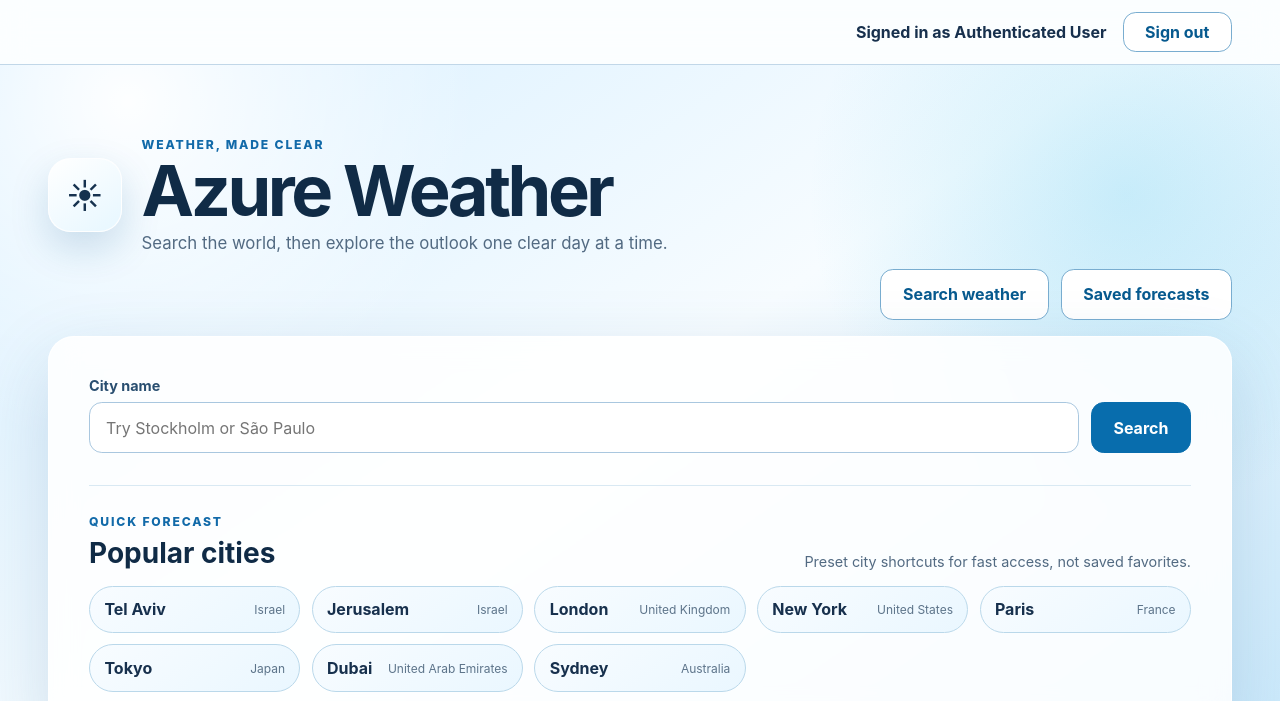
Test: App › displays a stored snapshot without requesting live weather and returns to search
Expected: the text "Signed in as Authenticated User" is shown, [856,22,1106,42]
Click the button "Saved forecasts": point(1146, 294) [1061,269,1232,320]
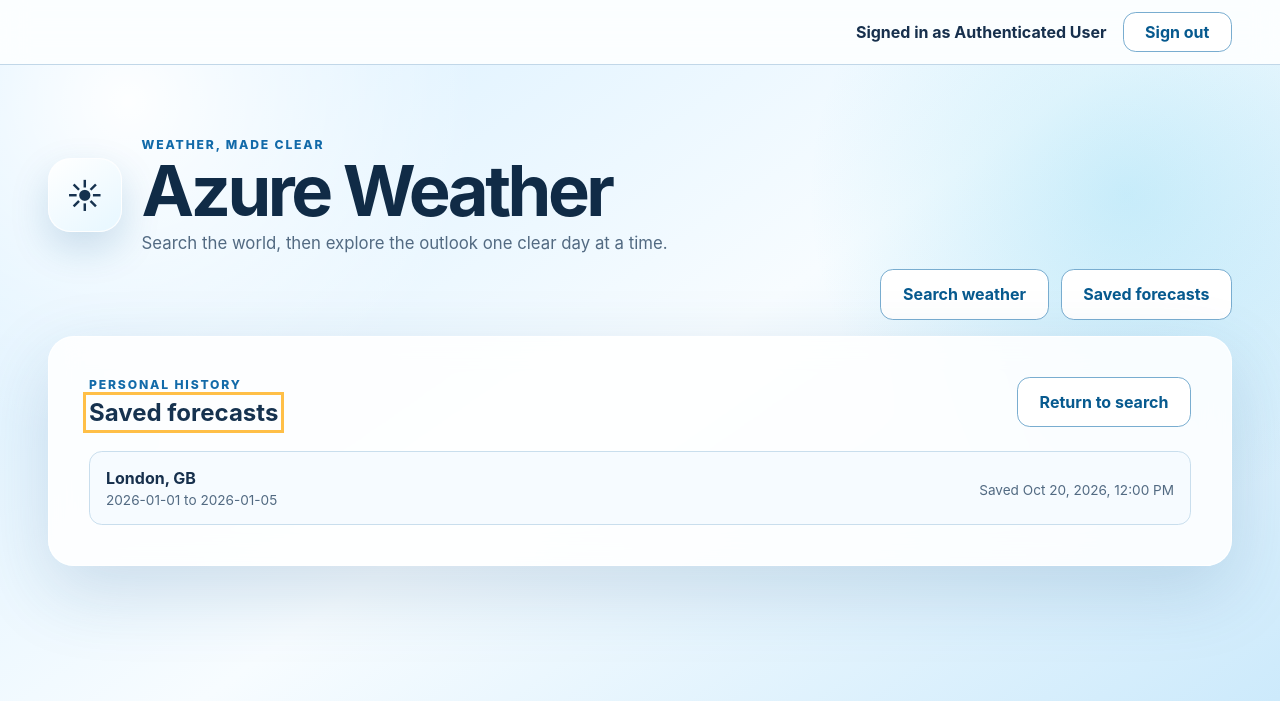
Click the button "London, GB": point(135, 478) [89,451,1191,525]
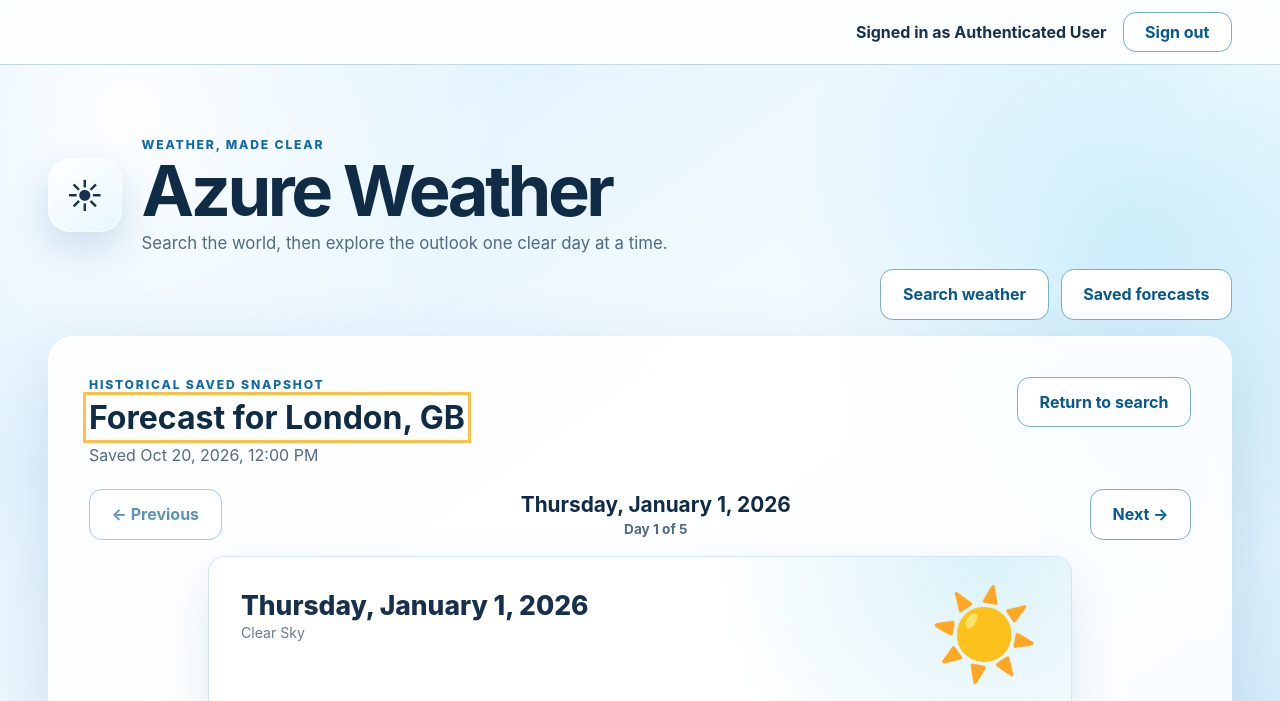
Expected: the text "Historical saved snapshot" is shown, [89,377,325,392]
Expected: the text "Day 1 of 5" is shown, [624,521,688,537]
Click the button with aria-label "Next forecast day": point(1140, 514) [1090,489,1191,540]
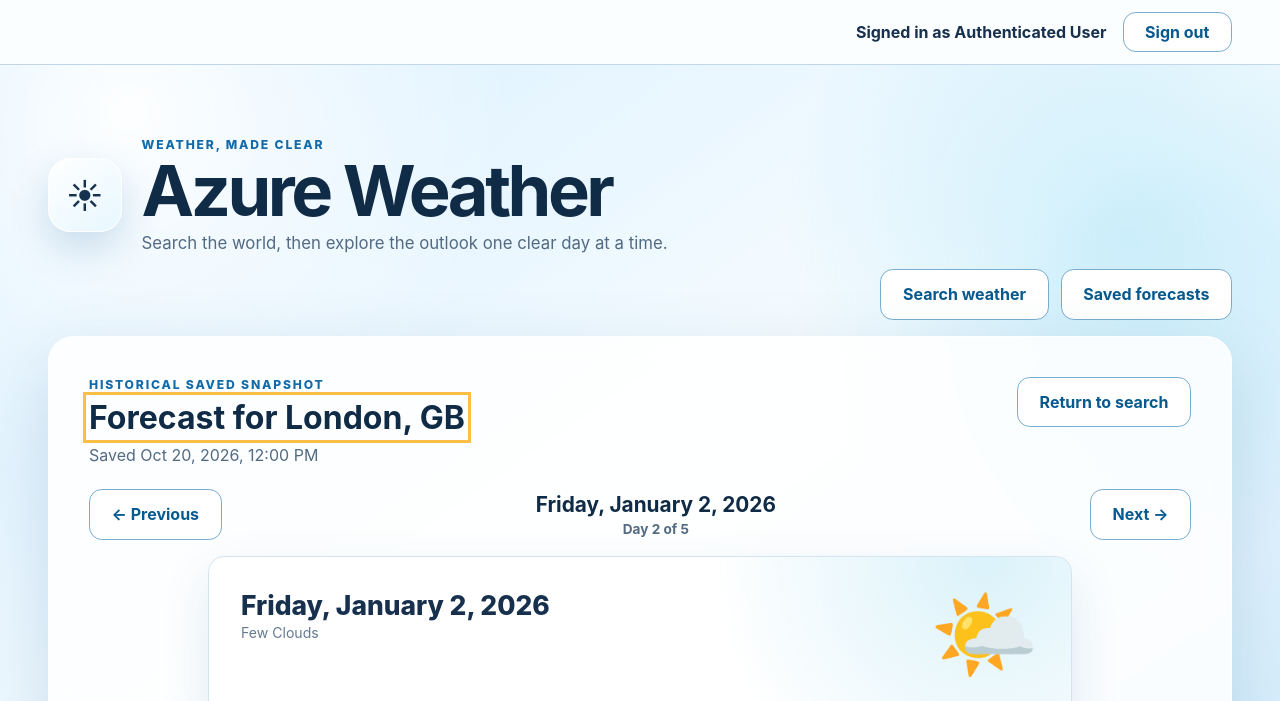
Expected: the text "Day 2 of 5" is shown, [623,521,689,537]
Click the button "Return to search": point(1104, 402) [1017,377,1191,427]
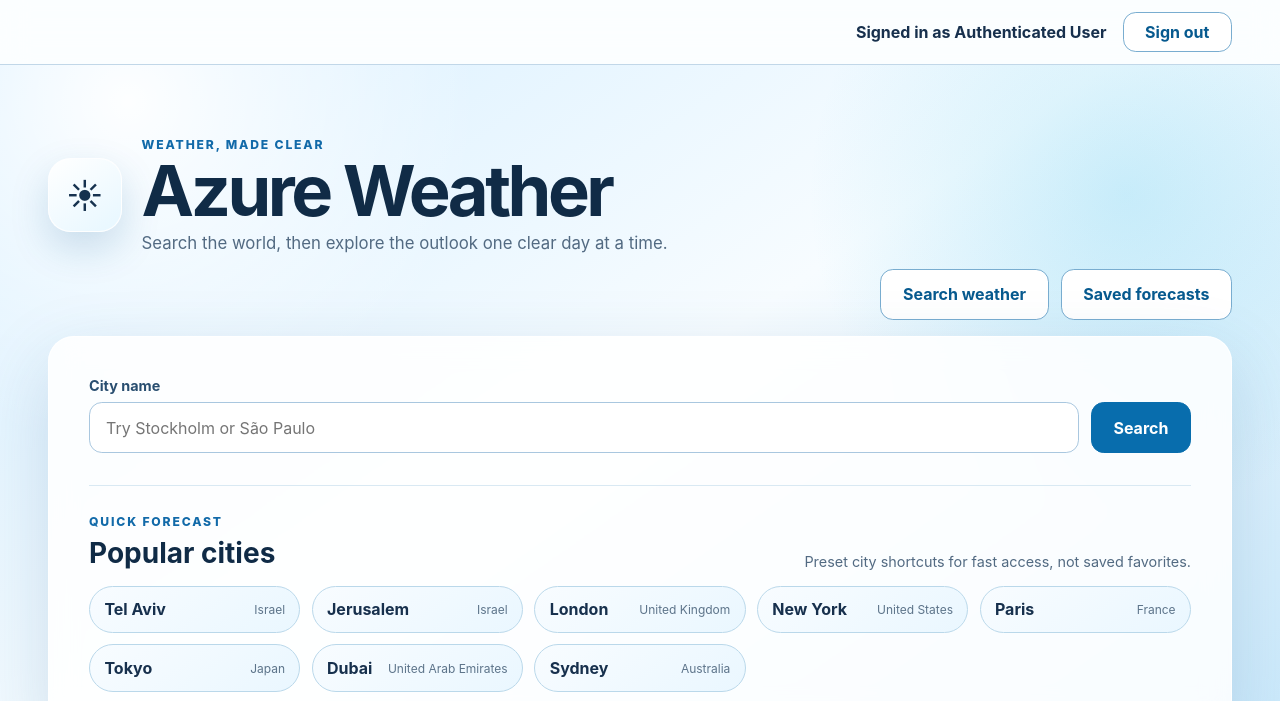
Expected: the search field labelled "City name" is shown, [89,402,1079,453]
